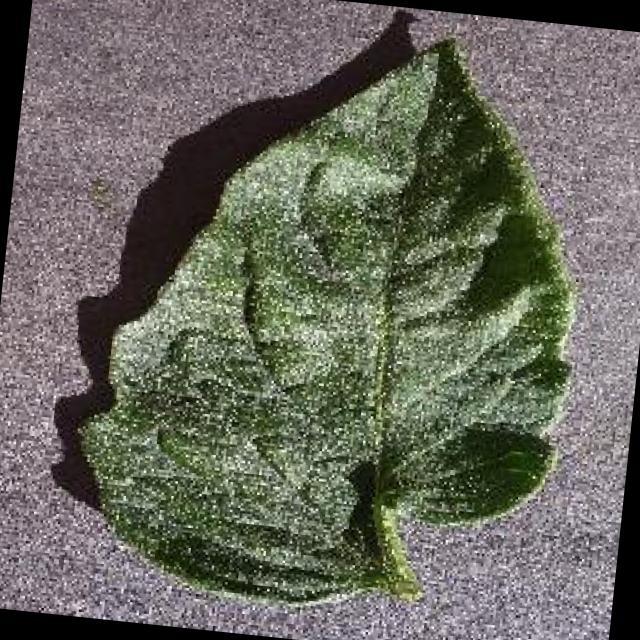Tomato_Healthy: (33, 0, 613, 632)
